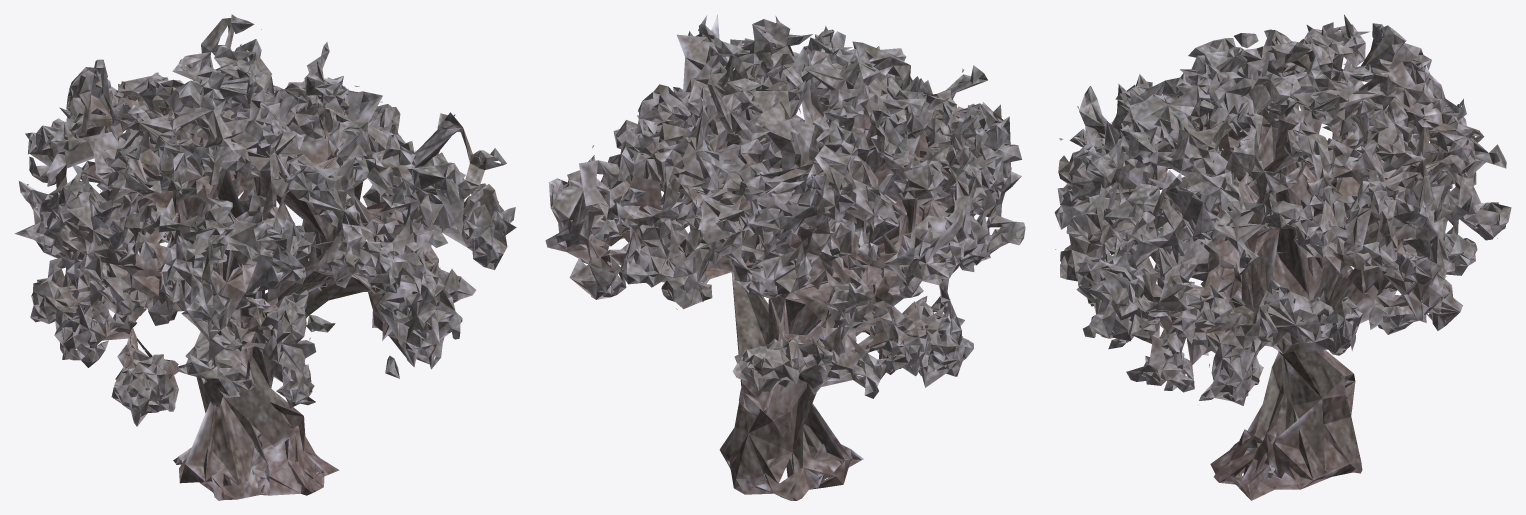
The model's file is it_olive.glb.
3 views of the same model, side by side, from view 1: azimuth 30°, elevation 25°; view 2: azimuth 150°, elevation 25°; view 3: azimuth 270°, elevation 25° (orthographic). The views are drawn at different scales.
Visible parts, largest first — view 1: geometry_0; view 2: geometry_0; view 3: geometry_0.
Boxes of the visible parts, bbox=[...] form: geometry_0: bbox=[14, 14, 516, 500]; geometry_0: bbox=[545, 14, 1025, 500]; geometry_0: bbox=[1054, 14, 1511, 500].
Bounding box in the file's own units: 1 × 0.9989 × 0.9927.
1 material, 1 textured.
